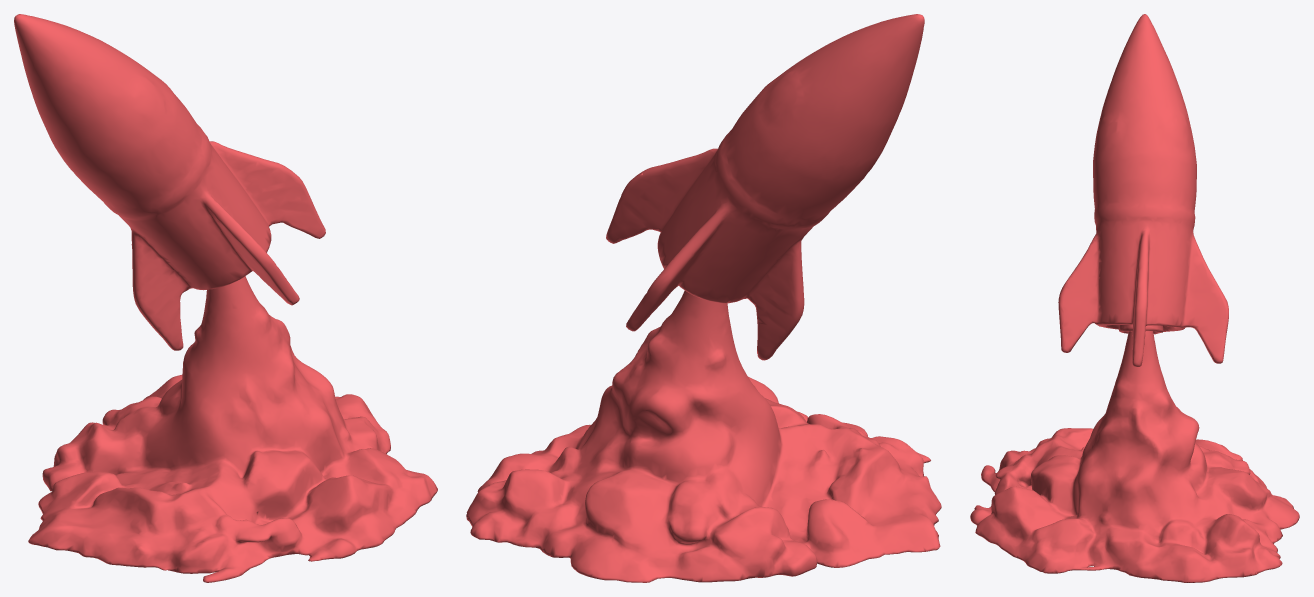
File: rocket3.glb
The picture shows the model from 3 angles, left to right: view 1: azimuth 30°, elevation 25°; view 2: azimuth 150°, elevation 25°; view 3: azimuth 270°, elevation 25°; orthographic projection. The views are drawn at different scales.
Visible parts, largest first — view 1: Mesh_0; view 2: Mesh_0; view 3: Mesh_0.
Boxes of the visible parts, left/top/right/bottom form: Mesh_0: left=14, top=14, right=437, bottom=582; Mesh_0: left=466, top=14, right=941, bottom=582; Mesh_0: left=970, top=14, right=1299, bottom=582.
Bounding box in the file's own units: 5.18 × 6.64 × 4.73.
